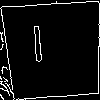I: (28, 25, 48, 72)
